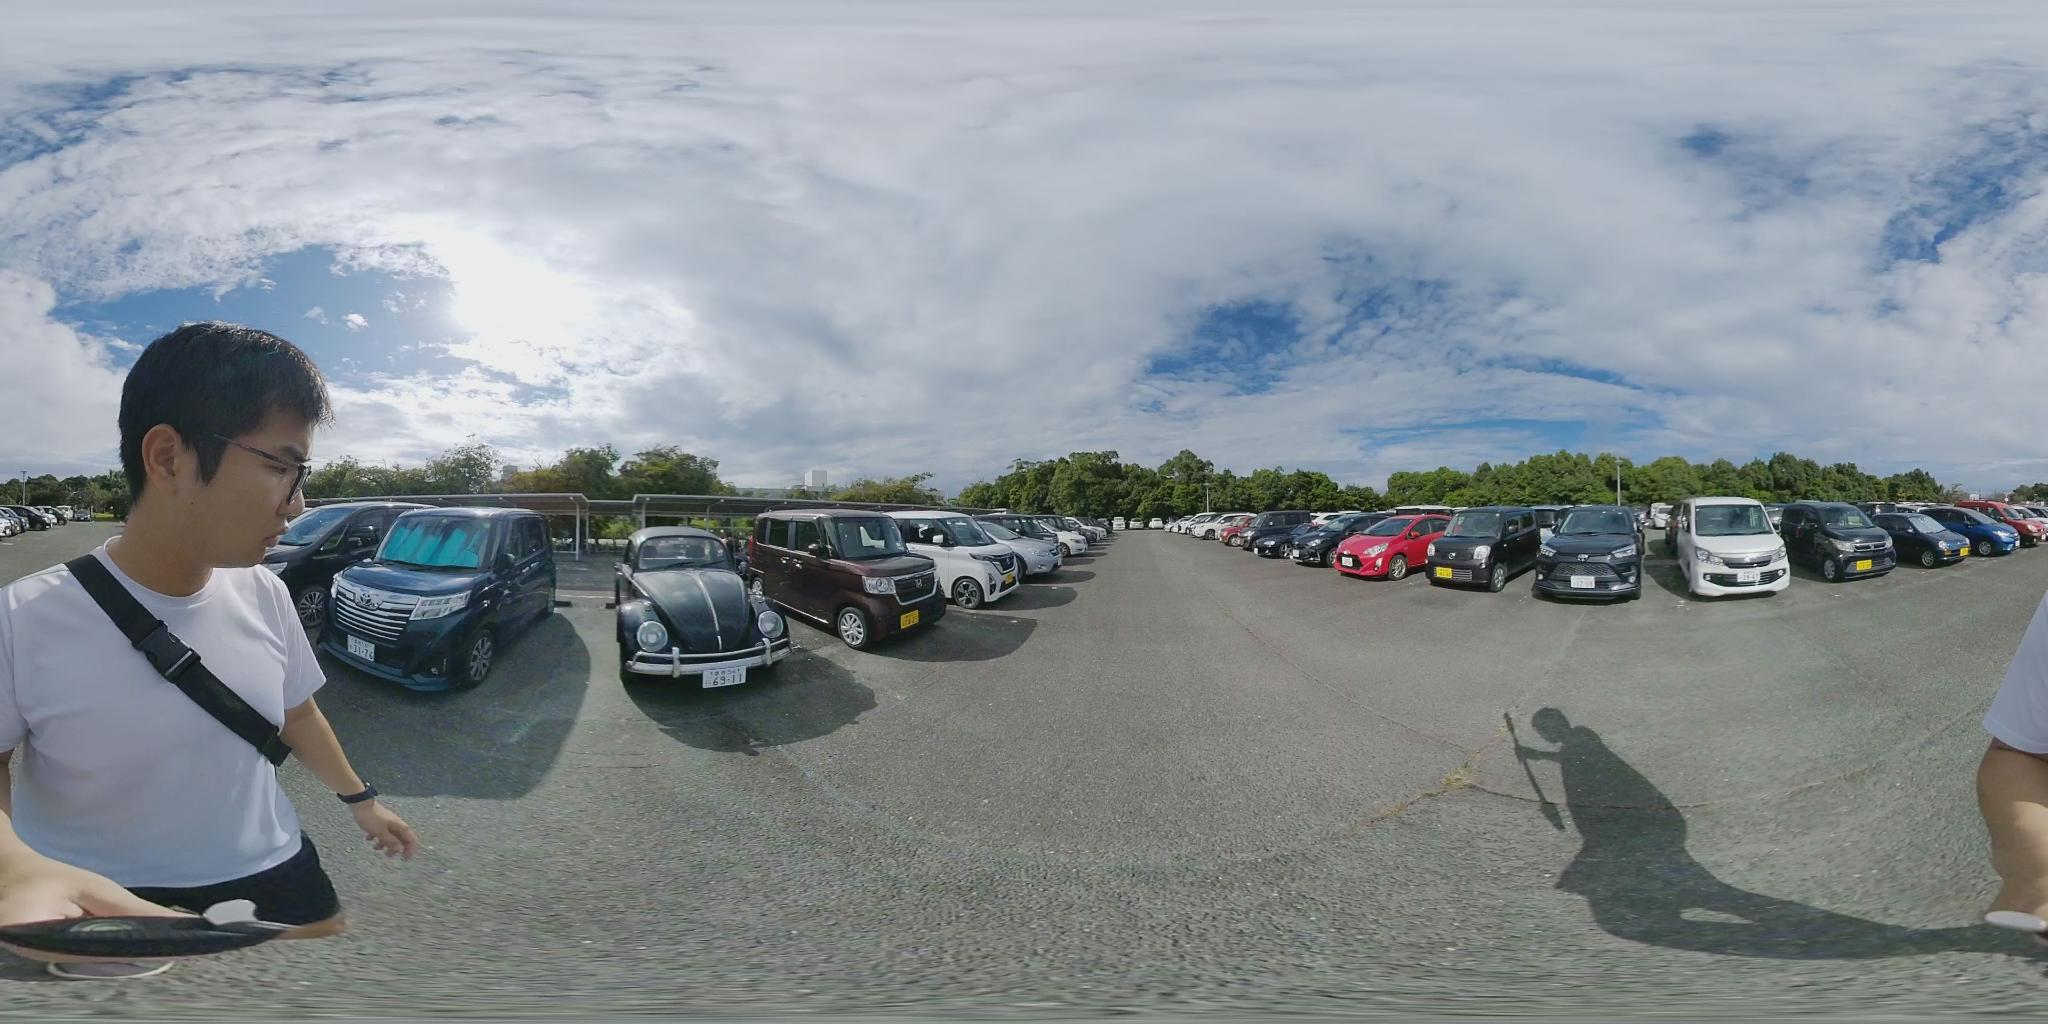car: (300, 499, 569, 691), (744, 509, 998, 645), (610, 529, 795, 688), (268, 499, 447, 609), (1668, 498, 1801, 601), (884, 515, 1036, 597), (1424, 508, 1554, 592), (1535, 508, 1647, 602), (1775, 503, 1904, 583), (1328, 511, 1455, 579), (1874, 505, 1985, 563), (1927, 509, 2026, 556), (1249, 513, 1327, 556), (1213, 516, 1254, 546)
